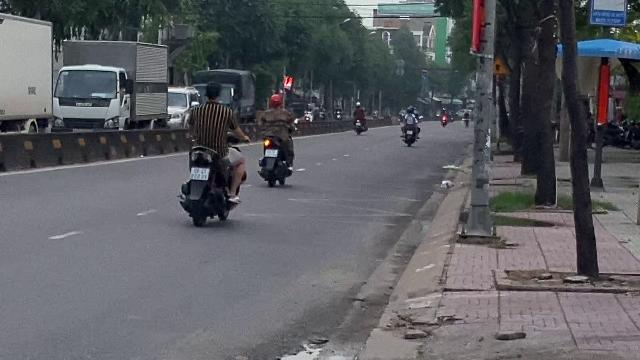licenseplate: (190, 167, 208, 179)
motorcyclist: (178, 80, 246, 226)
nohelmet: (204, 82, 222, 102)
